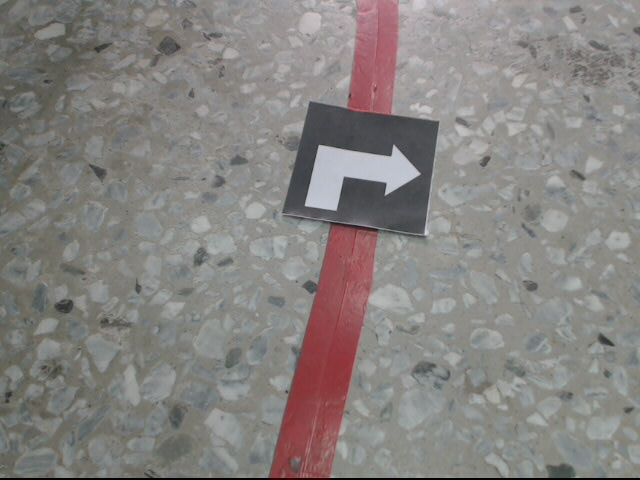right: (281, 100, 440, 237)
